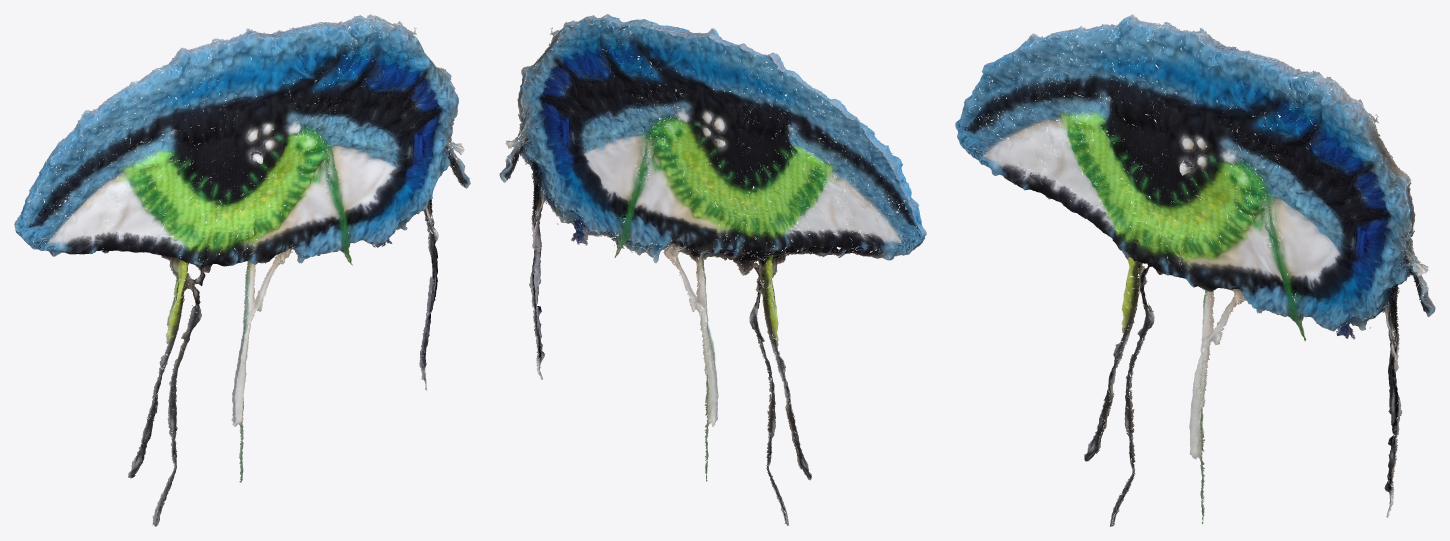
File: oeil_mirror.glb
The picture shows the model from 3 angles, left to right: view 1: azimuth 30°, elevation 25°; view 2: azimuth 150°, elevation 25°; view 3: azimuth 330°, elevation 25°; orthographic projection. The views are drawn at different scales.
Visible parts, largest first — view 1: model_tex_u1_v1_0.002; view 2: model_tex_u1_v1_0.002; view 3: model_tex_u1_v1_0.002.
Boxes of the visible parts, x1,y1,x2,y2 form: model_tex_u1_v1_0.002: [14, 14, 470, 526]; model_tex_u1_v1_0.002: [499, 14, 926, 525]; model_tex_u1_v1_0.002: [955, 14, 1435, 526].
Bounding box in the file's own units: 0.1589 × 0.1637 × 0.0142.
1 material, 1 textured.
